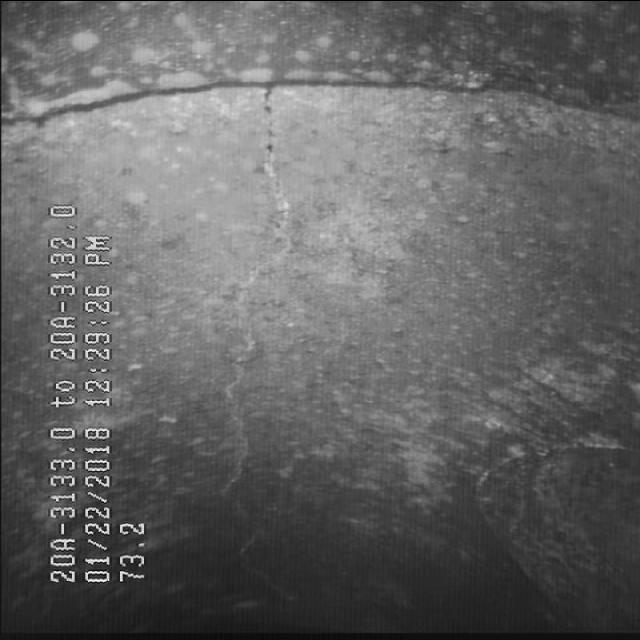Crack: (175, 102, 328, 588)
